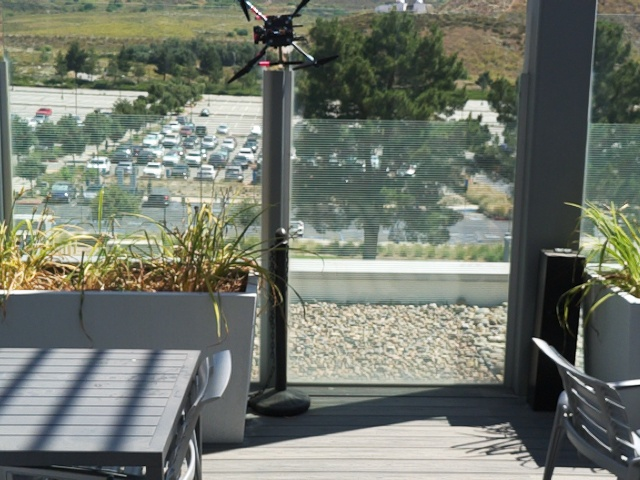quadcopter: (223, 1, 344, 87)
